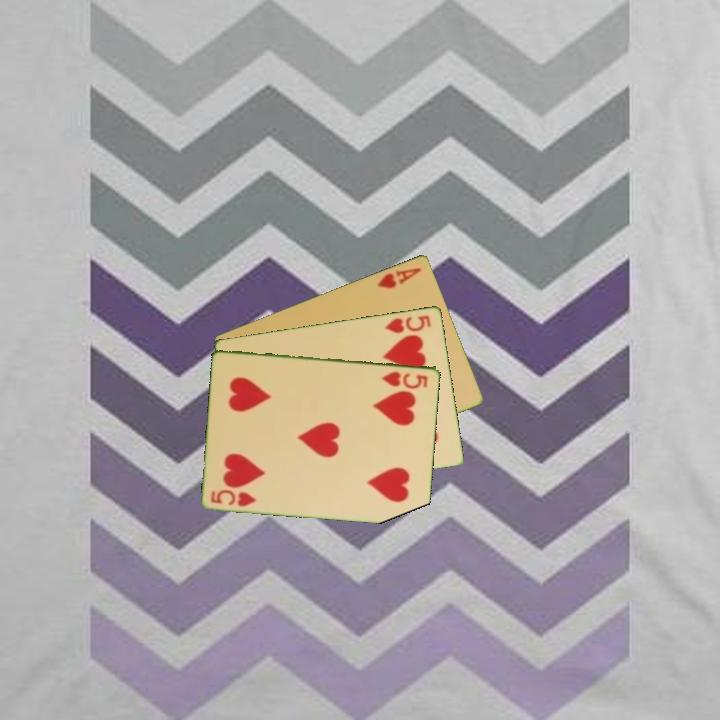5h: (381, 311, 434, 336), (379, 367, 431, 390), (208, 486, 259, 509)
Ah: (374, 263, 424, 291)
